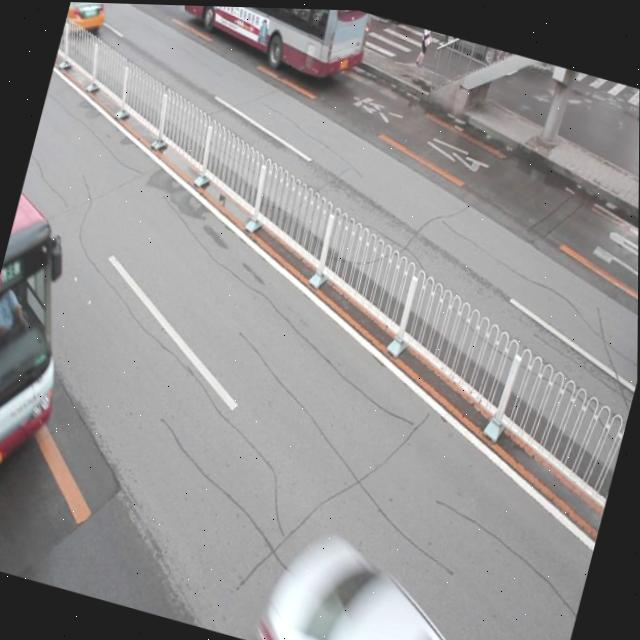car: (267, 521, 520, 640), (63, 1, 114, 41)
van: (0, 188, 104, 522), (169, 4, 370, 89)
